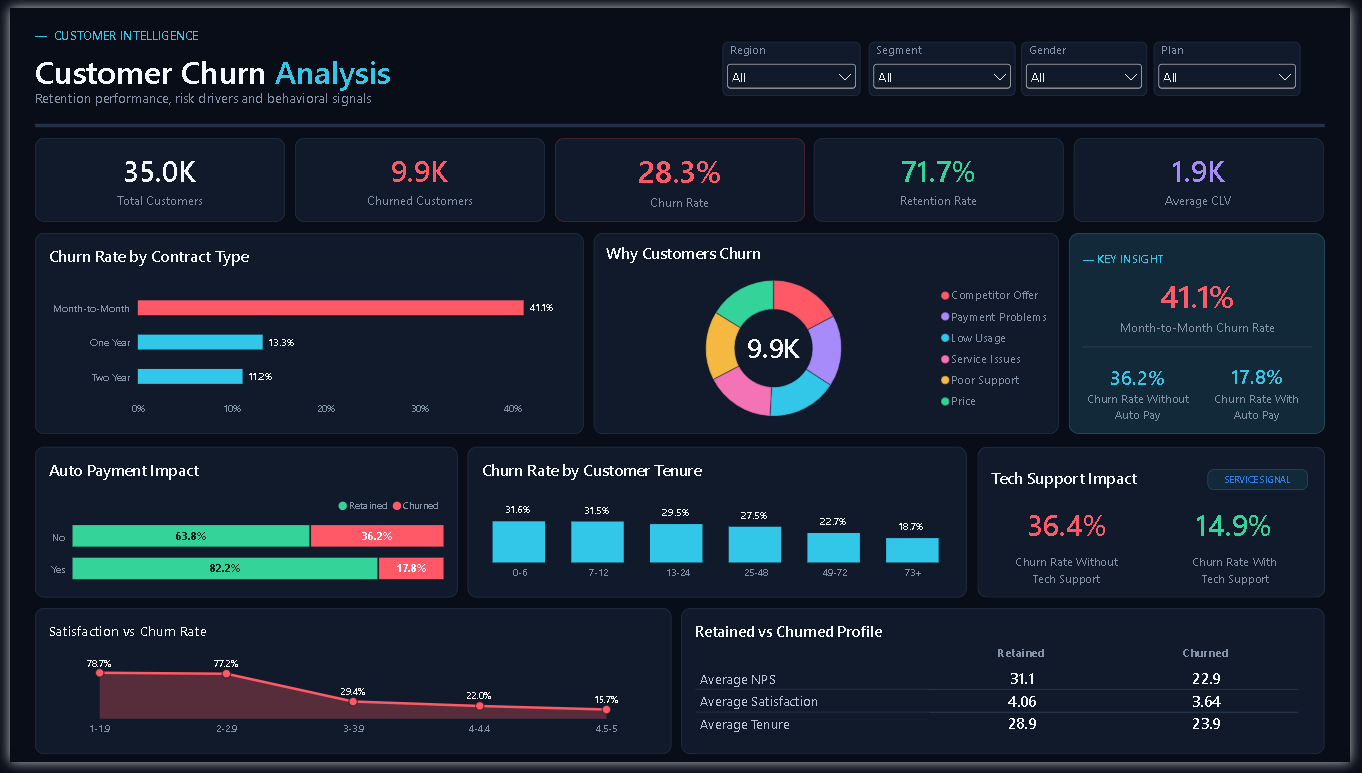

What the dashboard file says about the page in this screenshot:
{"tool":"powerbi","page":{"name":"Churn Dashboard","canvas":[1600,900],"ordinal":0},"visuals":[{"type":"shape","box":[1155,524,415,180],"z":0},{"type":"shape","box":[1264,269,306,240],"z":1000},{"type":"textbox","box":[30,22,350,30],"z":2000},{"type":"textbox","title":"8 Text box","box":[30,96,500,31],"z":3000},{"type":"shape","box":[30,135,1540,12],"z":4000},{"type":"card","fields":{"Values":["Customer_Churn.Total Customers"]},"box":[30,155,298,100],"z":5000},{"type":"card","title":"4 Card","fields":{"Values":["Customer_Churn.Churn Rate"]},"box":[650,155,298,100],"z":6000},{"type":"card","fields":{"Values":["Customer_Churn.Churned Customers"]},"box":[340,155,298,100],"z":7000},{"type":"card","fields":{"Values":["Customer_Churn.Retention Rate"]},"box":[960,155,298,100],"z":8000},{"type":"card","fields":{"Values":["Customer_Churn.Average CLV"]},"box":[1270,155,298,100],"z":9000},{"type":"textbox","box":[30,50,480,50],"z":10000},{"type":"slicer","fields":{"Values":["Customer_Churn.region"]},"box":[850,40,165,65],"z":11000},{"type":"slicer","fields":{"Values":["Customer_Churn.customer_segment"]},"box":[1025,40,175,65],"z":12000},{"type":"slicer","fields":{"Values":["Customer_Churn.gender"]},"box":[1207,40,150,65],"z":13000},{"type":"slicer","fields":{"Values":["Customer_Churn.subscription_plan"]},"box":[1365,40,175,65],"z":14000},{"type":"clusteredBarChart","title":"Churn Rate by Contract Type","fields":{"Category":["Customer_Churn.contract_type"],"Y":["Customer_Churn.Churn Rate"]},"box":[30,269,655,240],"z":15000},{"type":"donutChart","title":"Why Customers Churn","fields":{"Category":["Customer_Churn.churn_reason"],"Y":["Customer_Churn.Churned Customers"]},"box":[697,269,555,240],"z":16000},{"type":"textbox","box":[1280,288,250,25],"z":17000},{"type":"card","fields":{"Values":["Customer_Churn.Month-to-Month Churn Rate"]},"box":[1280,305,274,100],"z":18000},{"type":"shape","box":[1280,398,274,12],"z":19000},{"type":"card","fields":{"Values":["Customer_Churn.Churn Rate Without Auto Pay"]},"box":[1280.8,416,132,52],"z":20000},{"type":"card","fields":{"Values":["Customer_Churn.Churn Rate With Auto Pay"]},"box":[1422,416,132,51],"z":21000},{"type":"textbox","box":[1280,455,132,40],"z":22000},{"type":"textbox","box":[1422,455,132,40],"z":23000},{"type":"hundredPercentStackedBarChart","title":"Auto Payment Impact","fields":{"Category":["Customer_Churn.auto_payment"],"Y":["Customer_Churn.Total Customers"],"Series":["Customer_Churn.Customer Status"]},"box":[30,524,505,180],"z":24000},{"type":"clusteredColumnChart","title":"Churn Rate by Customer Tenure","fields":{"Category":["Customer_Churn.Tenure Group"],"Y":["Customer_Churn.Churn Rate"]},"box":[547,524,596,180],"z":25000},{"type":"textbox","box":[1172,548,225,30],"z":26000},{"type":"textbox","box":[1430,550,120,25],"z":27000},{"type":"card","fields":{"Values":["Customer_Churn.Churn Rate Without Tech Support"]},"box":[1172,585,180,65],"z":28000},{"type":"textbox","box":[1172,650,180,45],"z":29000},{"type":"card","fields":{"Values":["Customer_Churn.Churn Rate With Tech Support"]},"box":[1372,585,180,65],"z":30000},{"type":"textbox","box":[1372,650,180,45],"z":31000},{"type":"areaChart","title":"Satisfaction vs Churn Rate","fields":{"Y":["Customer_Churn.Churn Rate"],"Category":["Customer_Churn.Satisfaction Group"]},"box":[30,717,760,174],"z":32000},{"type":"pivotTable","title":"Retained vs Churned Profile","fields":{"Columns":["Customer_Churn.Customer Status"],"Values":["Customer_Churn.Average NPS","Customer_Churn.Average Satisfaction","Customer_Churn.Average Tenure"]},"box":[802,717,768,174],"z":33000}]}

Visuals, with their boxes in screenshot pixels (x1, y1, x2, y2), scaled from the page's 1600x900 canvas onto the 1362x773 screenshot:
shape: <bbox>983, 450, 1336, 605</bbox>
shape: <bbox>1076, 231, 1336, 437</bbox>
textbox: <bbox>26, 19, 323, 45</bbox>
"8 Text box" textbox: <bbox>26, 82, 451, 109</bbox>
shape: <bbox>26, 116, 1336, 126</bbox>
card - Customer_Churn.Total Customers: <bbox>26, 133, 279, 219</bbox>
"4 Card" card: <bbox>553, 133, 807, 219</bbox>
card - Customer_Churn.Churned Customers: <bbox>289, 133, 543, 219</bbox>
card - Customer_Churn.Retention Rate: <bbox>817, 133, 1071, 219</bbox>
card - Customer_Churn.Average CLV: <bbox>1081, 133, 1335, 219</bbox>
textbox: <bbox>26, 43, 434, 86</bbox>
slicer - Customer_Churn.region: <bbox>724, 34, 864, 90</bbox>
slicer - Customer_Churn.customer_segment: <bbox>873, 34, 1021, 90</bbox>
slicer - Customer_Churn.gender: <bbox>1027, 34, 1155, 90</bbox>
slicer - Customer_Churn.subscription_plan: <bbox>1162, 34, 1311, 90</bbox>
"Churn Rate by Contract Type" clusteredBarChart: <bbox>26, 231, 583, 437</bbox>
"Why Customers Churn" donutChart: <bbox>593, 231, 1066, 437</bbox>
textbox: <bbox>1090, 247, 1302, 269</bbox>
card - Customer_Churn.Month-to-Month Churn Rate: <bbox>1090, 262, 1323, 348</bbox>
shape: <bbox>1090, 342, 1323, 352</bbox>
card - Customer_Churn.Churn Rate Without Auto Pay: <bbox>1090, 357, 1203, 402</bbox>
card - Customer_Churn.Churn Rate With Auto Pay: <bbox>1210, 357, 1323, 401</bbox>
textbox: <bbox>1090, 391, 1202, 425</bbox>
textbox: <bbox>1210, 391, 1323, 425</bbox>
"Auto Payment Impact" hundredPercentStackedBarChart: <bbox>26, 450, 455, 605</bbox>
"Churn Rate by Customer Tenure" clusteredColumnChart: <bbox>466, 450, 973, 605</bbox>
textbox: <bbox>998, 471, 1189, 496</bbox>
textbox: <bbox>1217, 472, 1319, 494</bbox>
card - Customer_Churn.Churn Rate Without Tech Support: <bbox>998, 502, 1151, 558</bbox>
textbox: <bbox>998, 558, 1151, 597</bbox>
card - Customer_Churn.Churn Rate With Tech Support: <bbox>1168, 502, 1321, 558</bbox>
textbox: <bbox>1168, 558, 1321, 597</bbox>
"Satisfaction vs Churn Rate" areaChart: <bbox>26, 616, 672, 765</bbox>
"Retained vs Churned Profile" pivotTable: <bbox>683, 616, 1336, 765</bbox>
